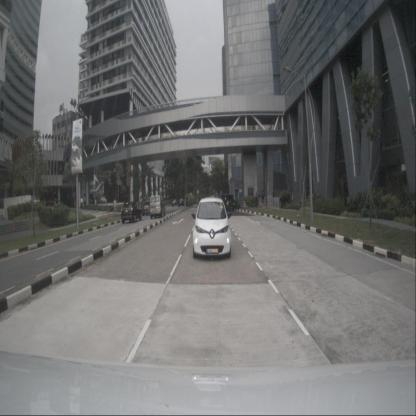human-pedestrian-adult: (290, 189, 294, 207), (94, 198, 98, 212), (195, 196, 199, 209), (255, 192, 258, 208), (261, 191, 264, 205), (80, 196, 83, 210), (114, 198, 116, 214)
movable_object-trafficcone: (12, 220, 17, 232)
vehicle-car: (192, 197, 231, 260), (121, 201, 142, 224), (150, 194, 166, 218), (219, 194, 235, 212), (142, 202, 152, 216), (178, 198, 184, 207), (172, 199, 177, 206)
